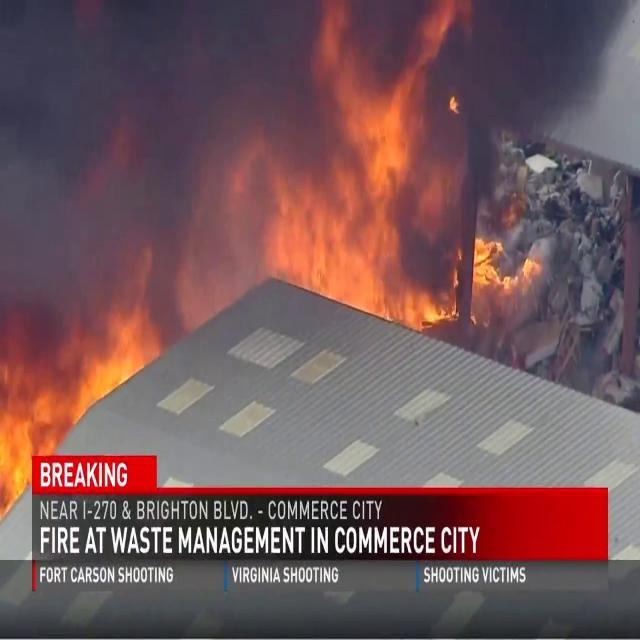Fire: (268, 0, 461, 325), (0, 292, 158, 503), (450, 227, 530, 300)
Smoke: (0, 0, 312, 339)
